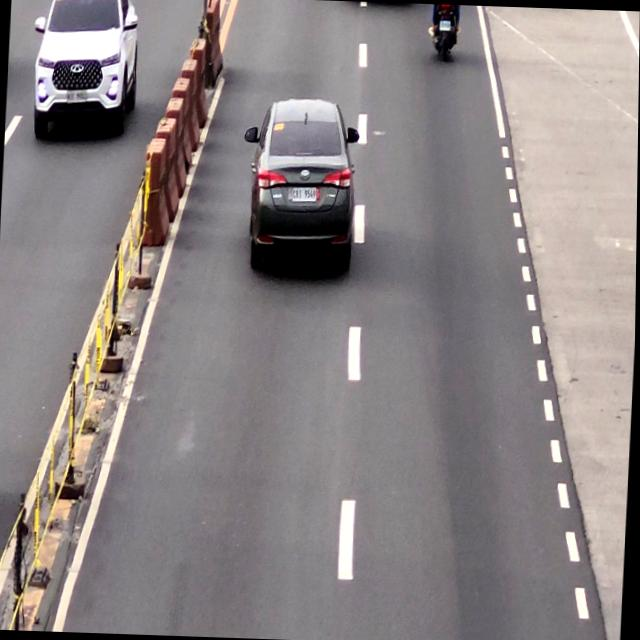Car: (246, 98, 359, 268)
License-Plate: (289, 184, 320, 206)
Motorcycle: (431, 4, 462, 66)
